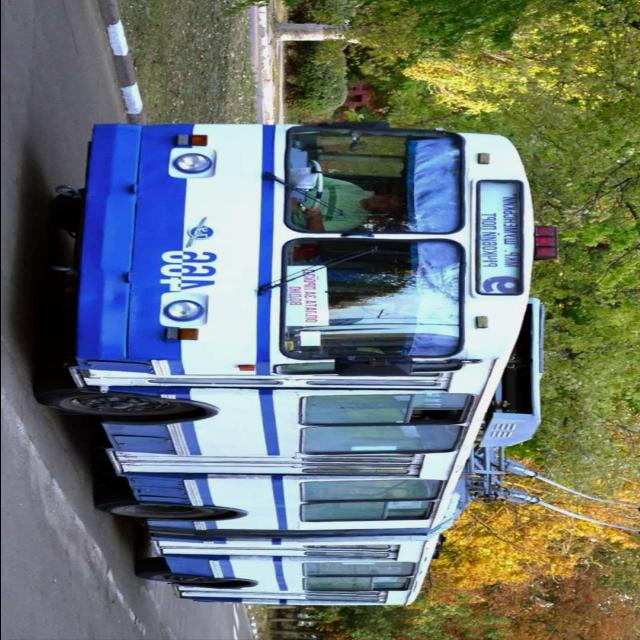bus: (32, 117, 561, 615)
